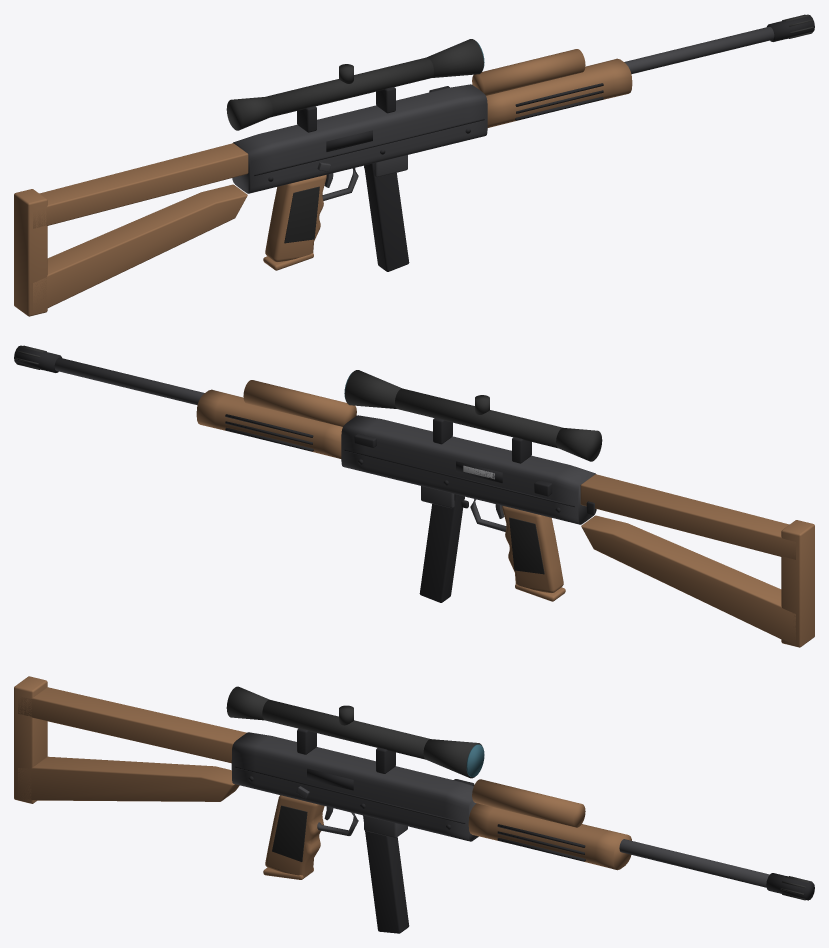
File: SM_SVD.glb
3 views of the same model, one above another, from view 1: azimuth 30°, elevation 25°; view 2: azimuth 150°, elevation 25°; view 3: azimuth 330°, elevation 25° (orthographic).
Parts seen in each view (by area): view 1: SM_SVD; view 2: SM_SVD; view 3: SM_SVD.
Boxes of the visible parts, <box> form: SM_SVD: <box>14,14,814,316</box>; SM_SVD: <box>14,345,814,647</box>; SM_SVD: <box>14,676,814,933</box>.
Size of the model in its own units: 1.2 by 0.3063 by 0.067.
